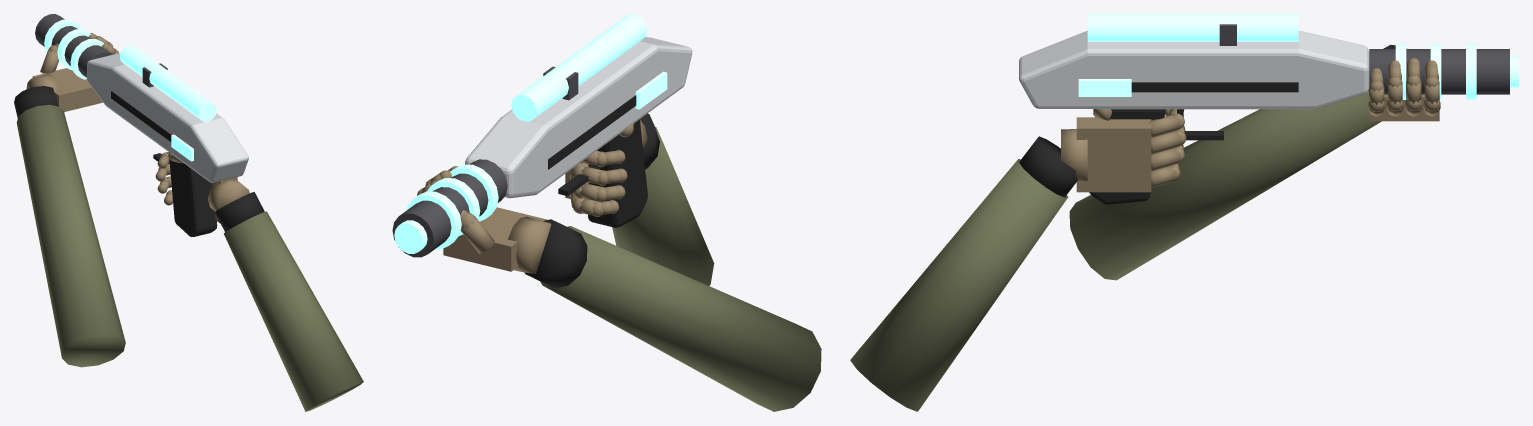
File: laser.glb
3 views of the same model, side by side, from view 1: azimuth 30°, elevation 25°; view 2: azimuth 150°, elevation 25°; view 3: azimuth 270°, elevation 25° (orthographic). The views are drawn at different scales.
Parts seen in each view (by area): view 1: Laser_HandLeft, Laser_Body, Laser_HandRight; view 2: Laser_Body, Laser_HandLeft, Laser_HandRight; view 3: Laser_Body, Laser_HandRight, Laser_HandLeft.
Part boxes in pixels (box(x1,y1,x2,y2)): Laser_HandLeft: box(14, 33, 125, 367); Laser_Body: box(35, 14, 248, 236); Laser_HandRight: box(155, 152, 363, 411); Laser_Body: box(392, 14, 692, 257); Laser_HandLeft: box(417, 166, 821, 411); Laser_HandRight: box(565, 113, 714, 285); Laser_Body: box(1019, 14, 1518, 204); Laser_HandRight: box(850, 109, 1186, 411); Laser_HandLeft: box(1069, 44, 1440, 280).
Bounding box in the file's own units: 0.3818 × 0.4515 × 0.7596.
